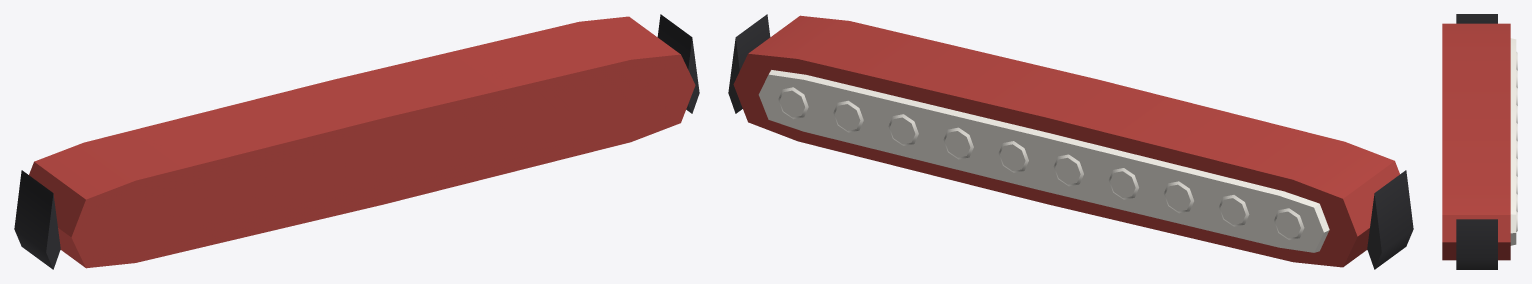
Rendered from bar.glb.
3 renders of one model, left to right at view 1: azimuth 30°, elevation 25°; view 2: azimuth 150°, elevation 25°; view 3: azimuth 270°, elevation 25°, orthographic. The views are drawn at different scales.
Parts seen in each view (by area): view 1: lod0; view 2: lod0; view 3: lod0.
Part boxes in pixels (x1,y1,x2,y2): lod0: [14, 14, 699, 269]; lod0: [728, 14, 1413, 269]; lod0: [1442, 14, 1517, 269].
Size of what is drawn, in the model's own units: 0.356 by 0.045 by 0.054.
